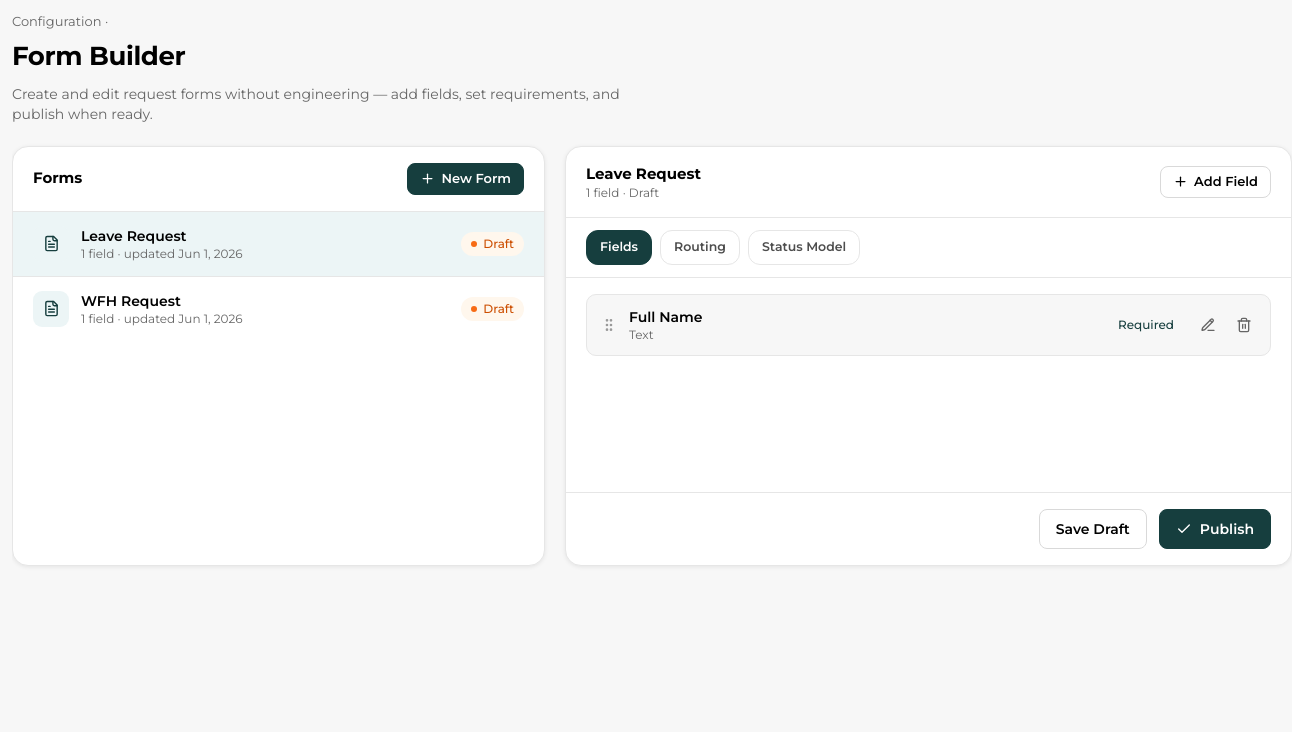
selecting a different form loads its own fields
The width and height of the screenshot is (1292, 732).
Expected: the text "Full Name" is shown, [629,308,703,326]
Click the text "WFH Request": (131, 300) [81,292,181,310]
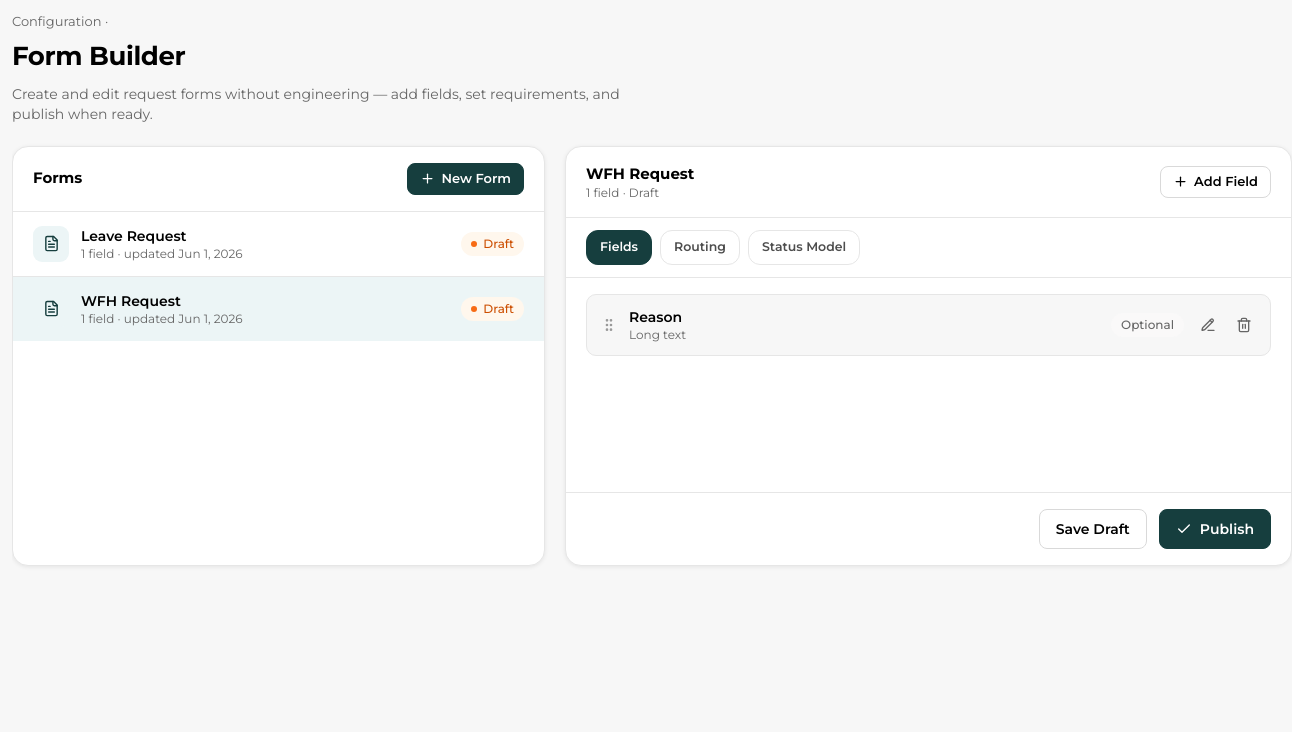
Now the text "Reason" is shown, box [629,308,682,326]
Now the text "Full Name" is gone
